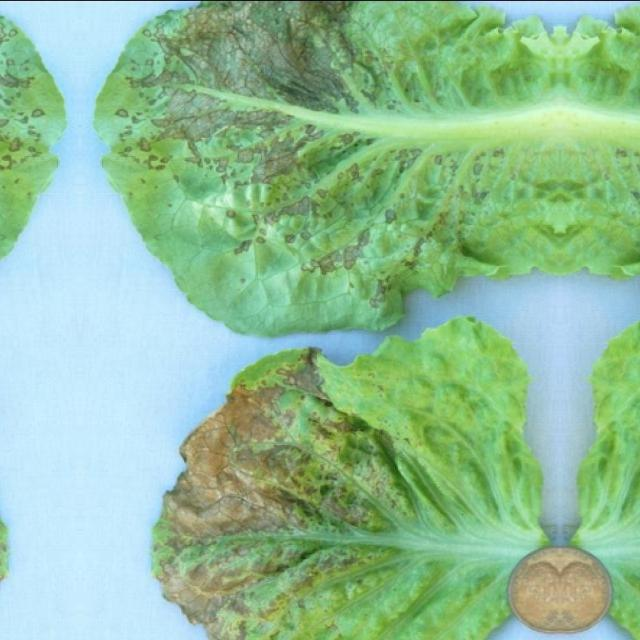healthy: (100, 0, 560, 338), (150, 316, 550, 640), (560, 0, 640, 337), (569, 316, 640, 640), (0, 0, 60, 337), (0, 316, 10, 640)
